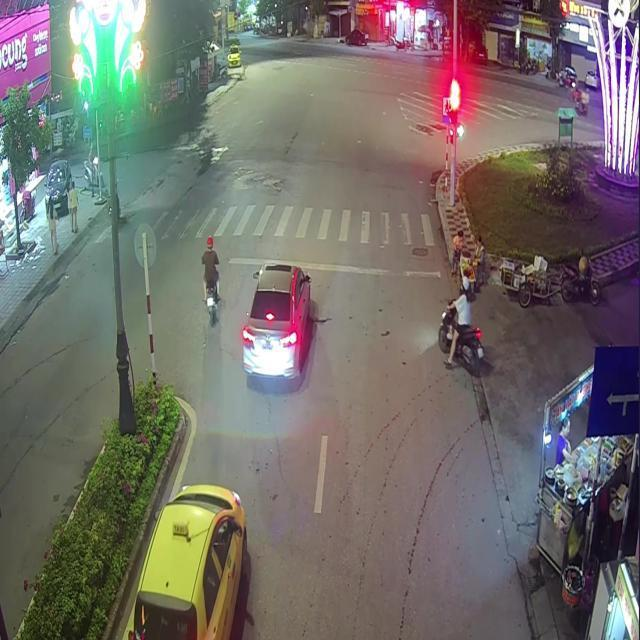car: (122, 483, 245, 638), (240, 262, 311, 378)
motobike: (437, 297, 484, 376), (200, 255, 218, 325)
red_light: (450, 92, 457, 125)
stop_line: (226, 256, 440, 277)
